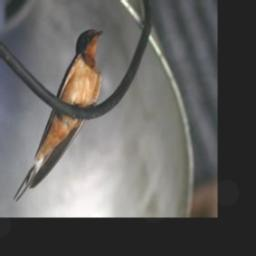Swallow: (8, 24, 107, 203)
